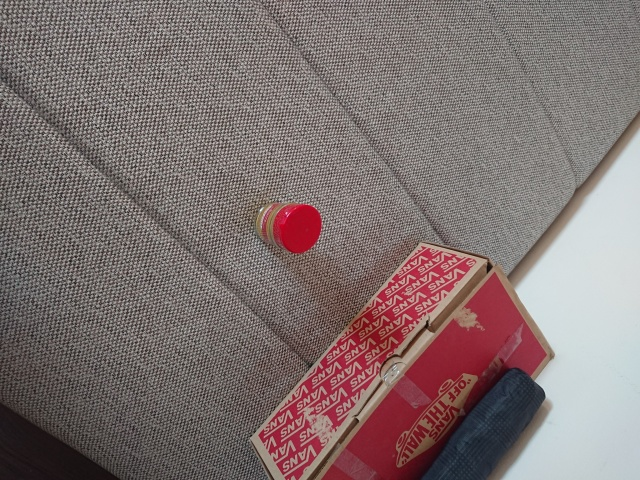Kotanyi Curry Spices Mix 70g: (252, 199, 324, 256)
